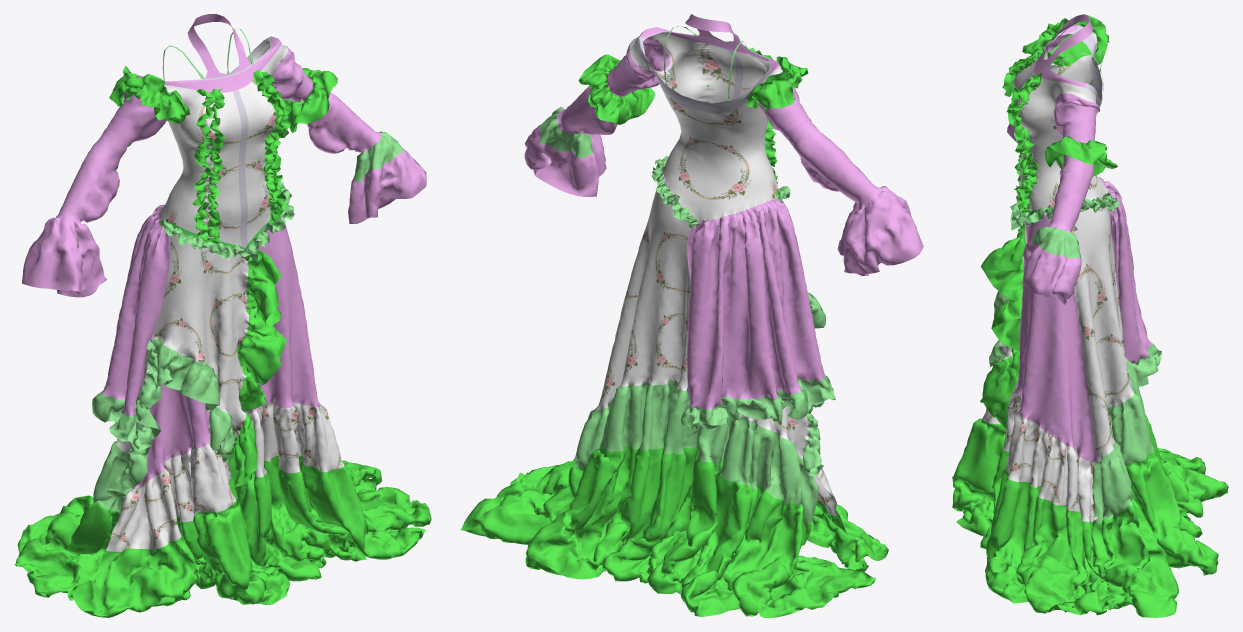
The model's file is asset10.glb.
The picture shows the model from 3 angles, left to right: view 1: azimuth 30°, elevation 25°; view 2: azimuth 150°, elevation 25°; view 3: azimuth 270°, elevation 25°; orthographic projection. The views are drawn at different scales.
Visible parts, largest first — view 1: 11; view 2: 11; view 3: 11.
Boxes of the visible parts, x1,y1,x2,y2 form: 11: (14,14,431,617); 11: (460,14,923,617); 11: (952,14,1228,617).
Size of the model in its own units: 12.73 by 15.99 by 7.94.
Materials: 6 (2 with a texture image).
